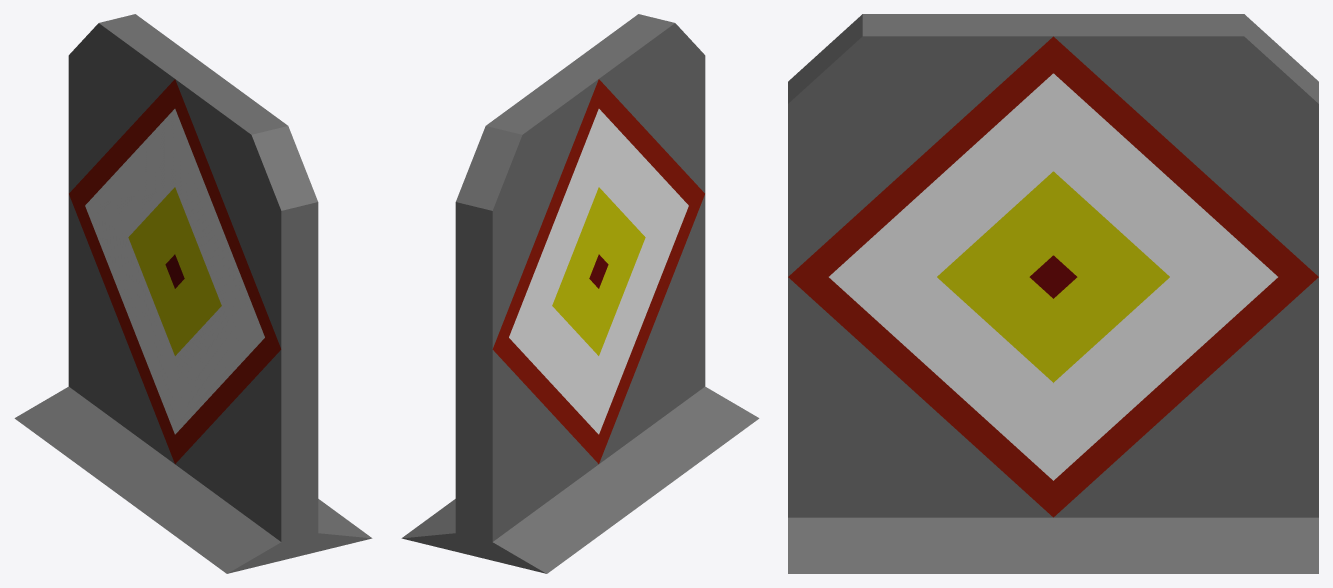
File: target.fbx
The picture shows the model from 3 angles, left to right: view 1: azimuth 30°, elevation 25°; view 2: azimuth 150°, elevation 25°; view 3: azimuth 270°, elevation 25°; orthographic projection. The views are drawn at different scales.
Visible parts, largest first — view 1: Target.3, Target.2, Target.1, Target; view 2: Target.3, Target.2, Target.1, Target; view 3: Target.3, Target.2, Target.1, Target.
Boxes of the visible parts, x1,y1,x2,y2 form: Target.3: [14, 70, 318, 495]; Target.2: [121, 306, 372, 573]; Target.1: [68, 14, 211, 193]; Target: [128, 187, 221, 355]; Target.3: [401, 14, 705, 573]; Target.2: [599, 194, 759, 495]; Target.1: [455, 70, 598, 349]; Target: [552, 187, 645, 355]; Target.3: [788, 14, 1318, 573]; Target.2: [788, 277, 1053, 573]; Target.1: [1053, 14, 1318, 276]; Target: [937, 171, 1169, 382].
Size of the model in its own units: 23.74 by 62.88 by 60.
